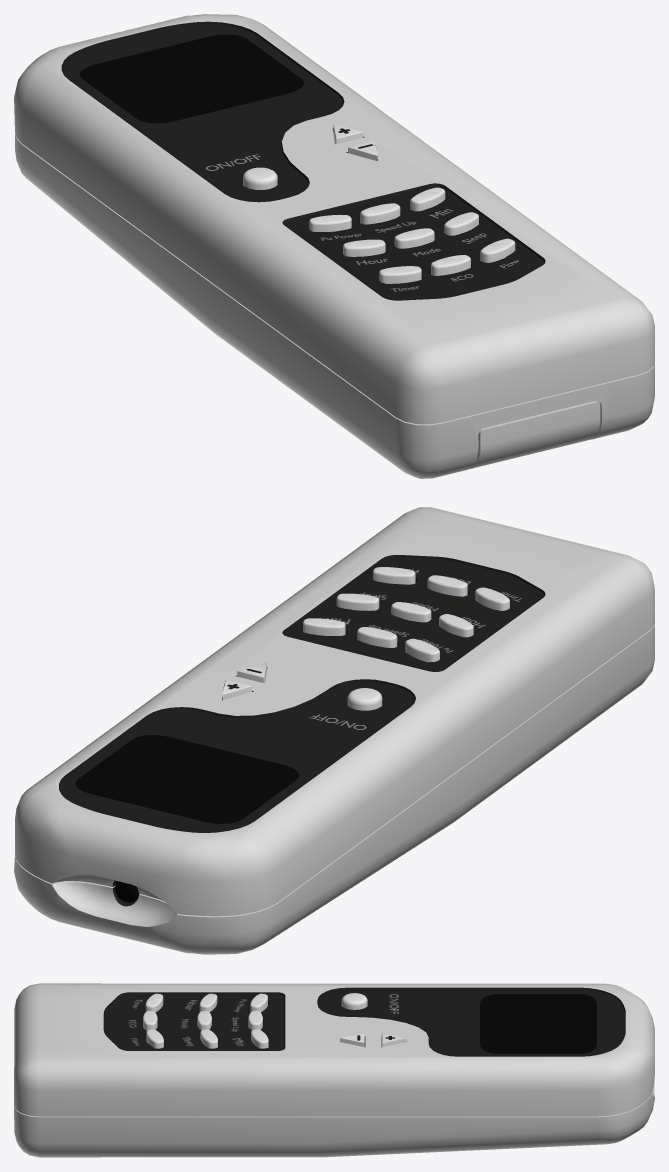
File: Pilot.fbx
The picture shows the model from 3 angles, top to bottom: view 1: azimuth 30°, elevation 25°; view 2: azimuth 150°, elevation 25°; view 3: azimuth 270°, elevation 25°; orthographic projection. The views are drawn at different scales.
Visible parts, largest first — view 1: Pilot; view 2: Pilot; view 3: Pilot.
Boxes of the visible parts, bbox=[...] form: Pilot: bbox=[14, 14, 654, 478]; Pilot: bbox=[14, 507, 654, 954]; Pilot: bbox=[14, 983, 654, 1157].
Bounding box in the file's own units: 0.0745 × 0.2171 × 0.0393.
